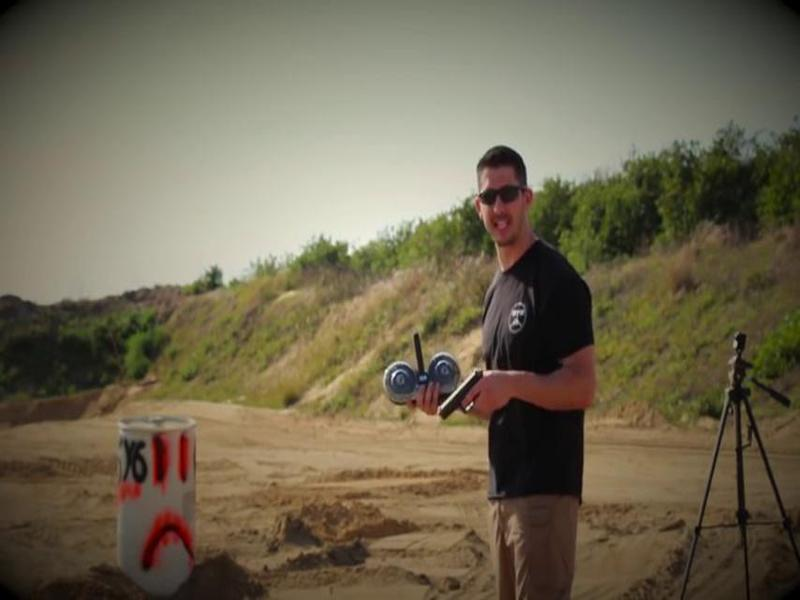Pistola: (436, 366, 503, 427)
